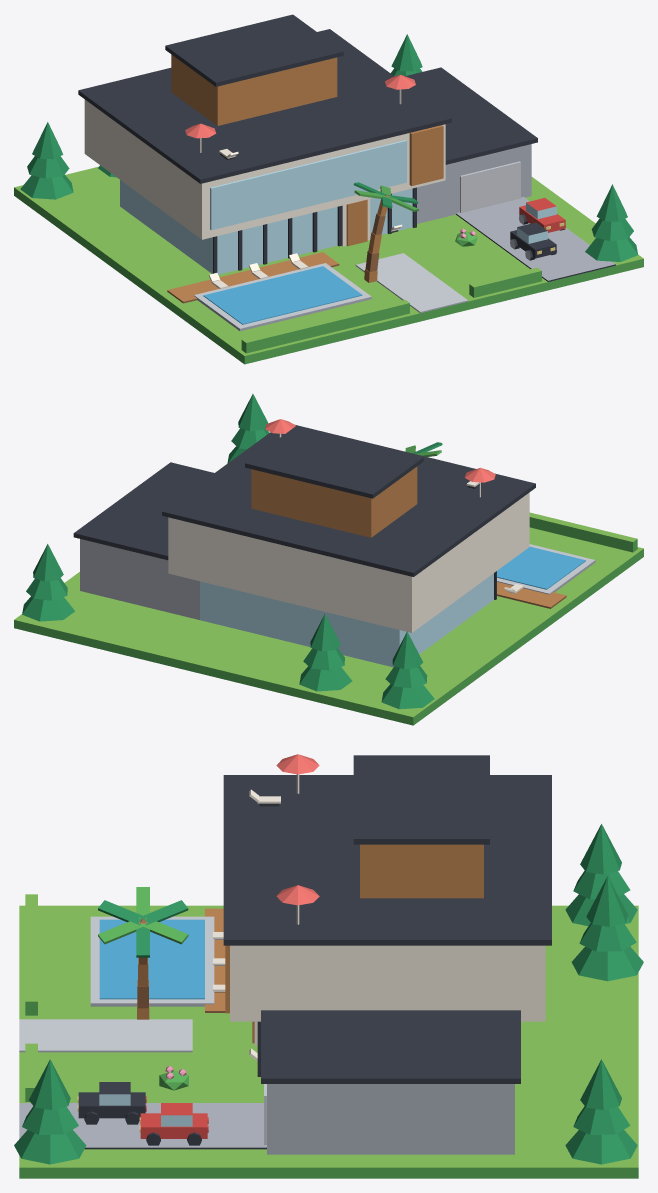
The model's file is house_luxury.glb.
3 views of the same model, one above another, from view 1: azimuth 30°, elevation 25°; view 2: azimuth 150°, elevation 25°; view 3: azimuth 270°, elevation 25° (orthographic). The views are drawn at different scales.
Visible parts, largest first — view 1: house_luxury; view 2: house_luxury; view 3: house_luxury.
Boxes of the visible parts, x1=… form: house_luxury: x1=14, y1=14, x2=643, y2=364; house_luxury: x1=14, y1=394, x2=643, y2=725; house_luxury: x1=14, y1=754, x2=643, y2=1178.
Size of the model in its own units: 2.03 by 0.8012 by 2.03.
